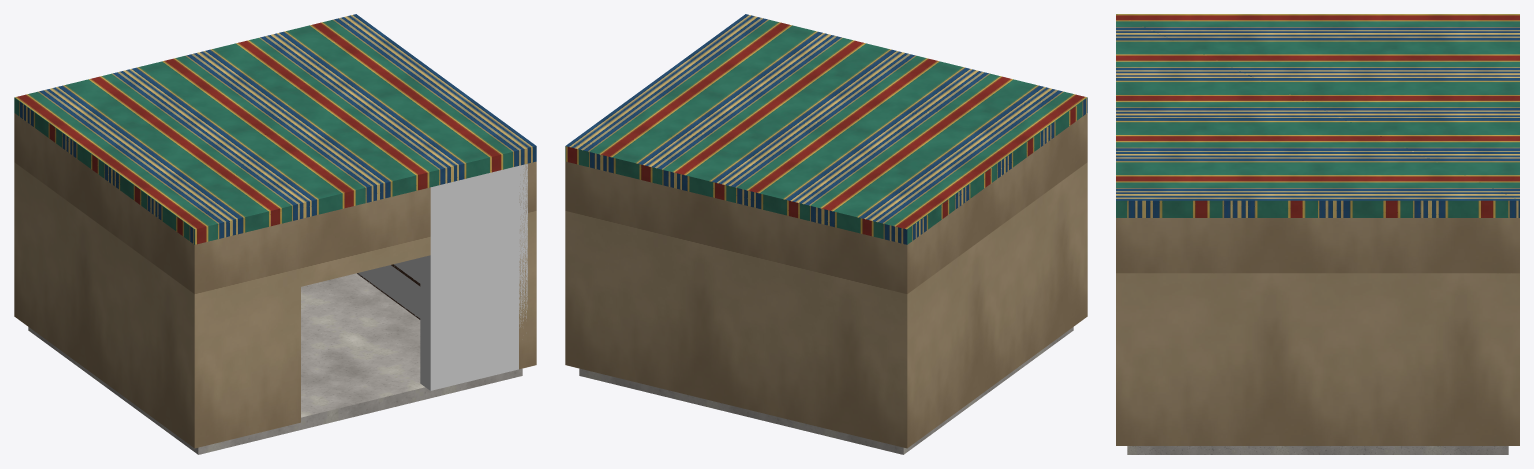
Rendered from qingshi_herb_shop.glb.
The picture shows the model from 3 angles, left to right: view 1: azimuth 30°, elevation 25°; view 2: azimuth 150°, elevation 25°; view 3: azimuth 270°, elevation 25°; orthographic projection. The views are drawn at different scales.
Parts seen in each view (by area): view 1: Walls, Ceiling, ShellFront-convcolonly.001, Floor, ShelfCol-convcolonly.001; view 2: Walls, Ceiling, Floor; view 3: Walls, Ceiling, Floor.
Boxes of the visible parts, x1,y1,x2,y2 form: Walls: [14, 113, 536, 448]; Ceiling: [14, 14, 536, 244]; ShellFront-convcolonly.001: [420, 163, 527, 390]; Floor: [28, 273, 522, 454]; ShelfCol-convcolonly.001: [357, 258, 420, 318]; Walls: [565, 113, 1087, 448]; Ceiling: [565, 14, 1087, 244]; Floor: [579, 327, 1073, 454]; Walls: [1116, 218, 1519, 445]; Ceiling: [1116, 14, 1519, 217]; Floor: [1127, 446, 1508, 454].
Size of what is drawn, in the model's own units: 5.8 by 3.75 by 5.3.
Materials: 7 (6 with a texture image).
